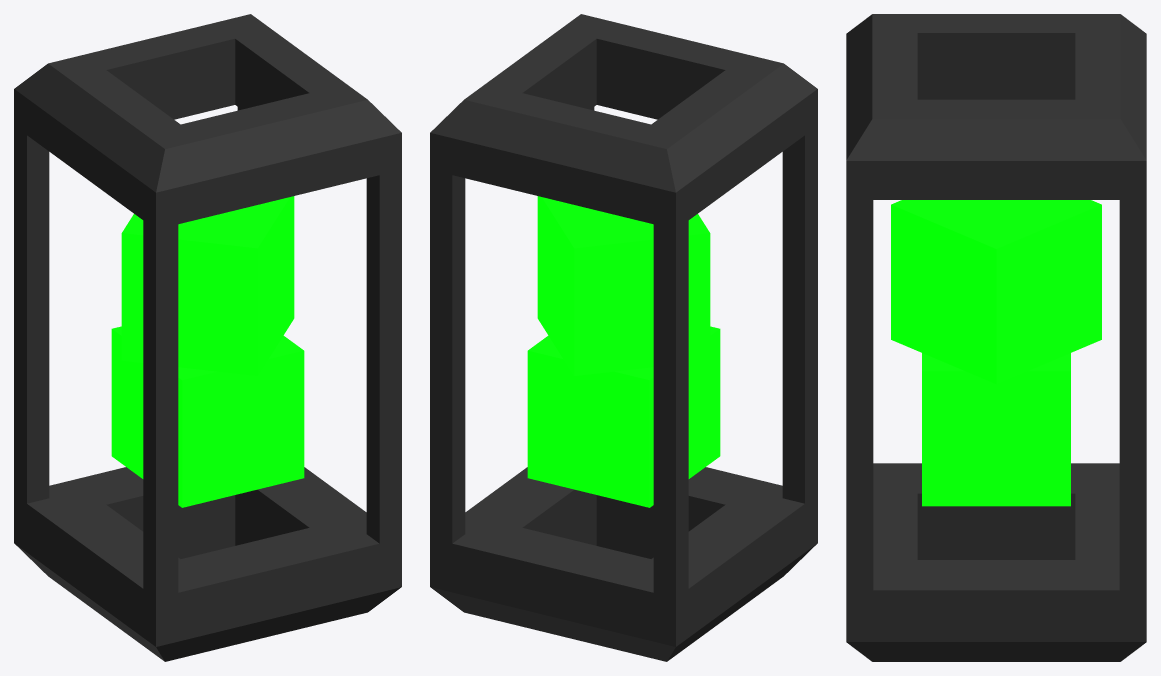
Rendered from Battery.glb.
3 views of the same model, side by side, from view 1: azimuth 30°, elevation 25°; view 2: azimuth 150°, elevation 25°; view 3: azimuth 270°, elevation 25° (orthographic). The views are drawn at different scales.
Parts seen in each view (by area): view 1: Cube; view 2: Cube; view 3: Cube.
Part boxes in pixels (box(x1,y1,x2,y2)): Cube: box(14, 14, 401, 661); Cube: box(430, 14, 817, 661); Cube: box(846, 14, 1146, 661).
Size of the model in its own units: 0.8061 by 1.61 by 0.8061.
